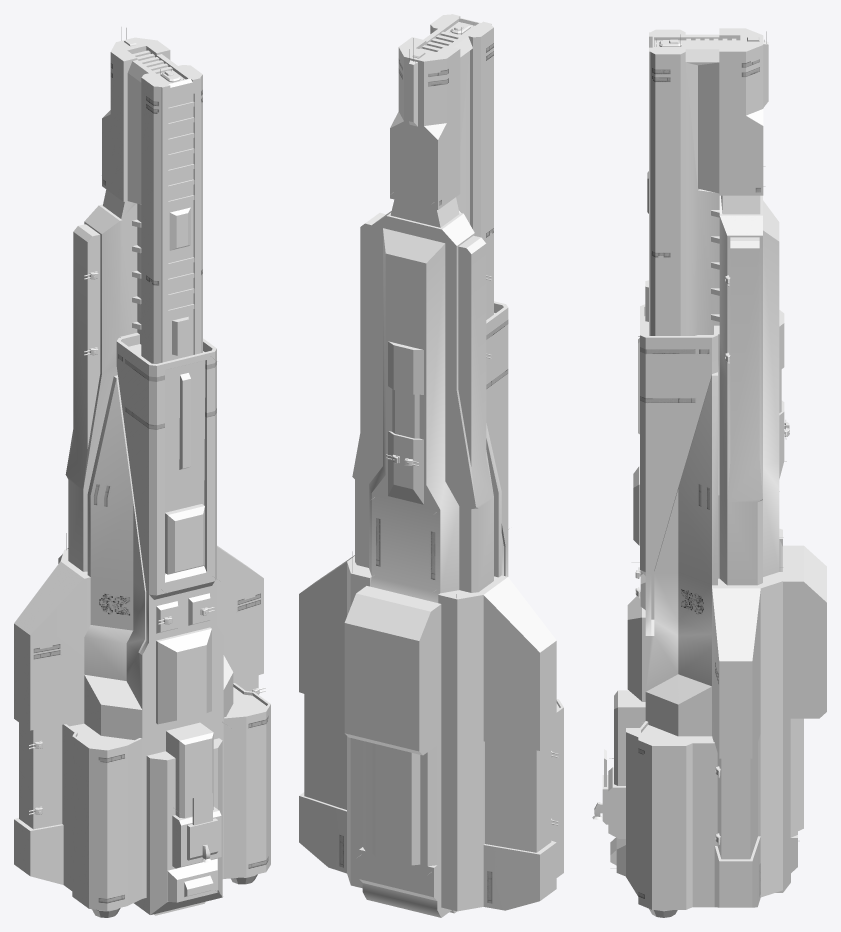
File: FRIGATE_UNSCEION.obj
3 renders of one model, left to right at view 1: azimuth 30°, elevation 25°; view 2: azimuth 150°, elevation 25°; view 3: azimuth 270°, elevation 25°, orthographic. The views are drawn at different scales.
Parts seen in each view (by area): view 1: Object; view 2: Object; view 3: Object.
Boxes of the visible parts, bbox=[...] form: Object: bbox=[14, 27, 270, 917]; Object: bbox=[299, 14, 563, 917]; Object: bbox=[592, 28, 826, 917].
Bounding box in the file's own units: 88.39 × 305 × 74.34.
